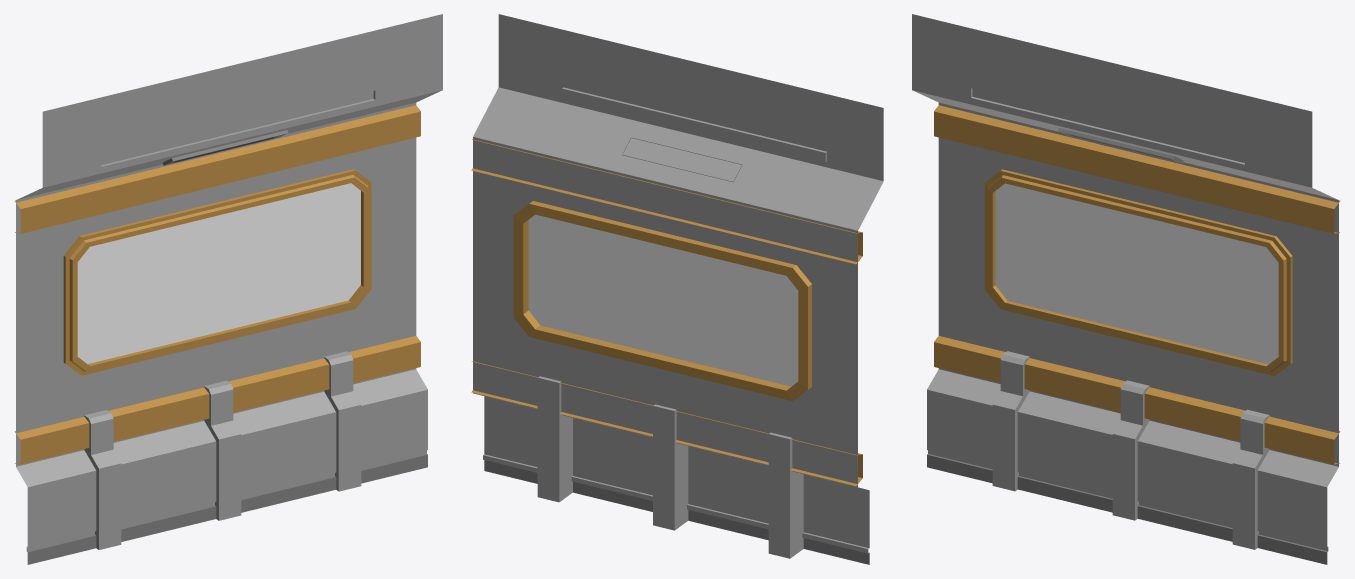
The model's file is Window_Wall_SideB_GD.glb.
3 views of the same model, side by side, from view 1: azimuth 30°, elevation 25°; view 2: azimuth 150°, elevation 25°; view 3: azimuth 330°, elevation 25° (orthographic). The views are drawn at different scales.
Parts seen in each view (by area): view 1: Window_Wall_SideB; view 2: Window_Wall_SideB; view 3: Window_Wall_SideB.
Part boxes in pixels (x1=…): Window_Wall_SideB: x1=14, y1=14, x2=442, y2=564; Window_Wall_SideB: x1=471, y1=14, x2=883, y2=564; Window_Wall_SideB: x1=912, y1=14, x2=1340, y2=564.
Bounding box in the file's own units: 30 × 33.23 × 4.02.
